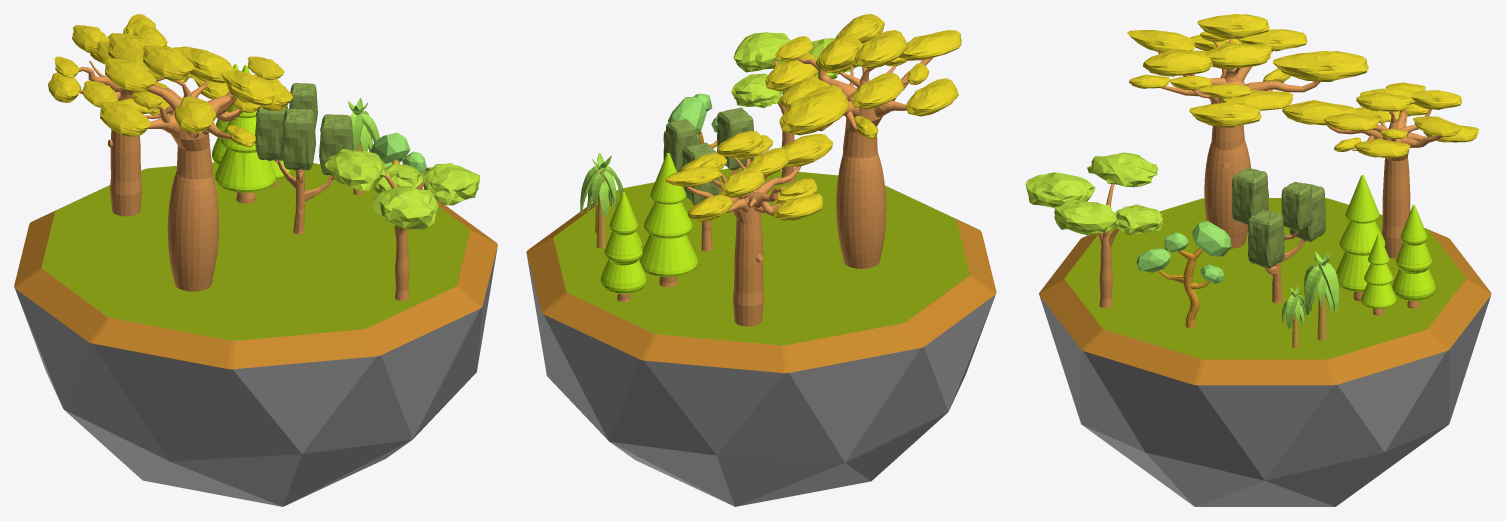
The model's file is trees-raco.gltf.
3 renders of one model, left to right at view 1: azimuth 30°, elevation 25°; view 2: azimuth 150°, elevation 25°; view 3: azimuth 270°, elevation 25°, orthographic. The views are drawn at different scales.
Bounding box in the file's own units: 178 × 197 × 192.
